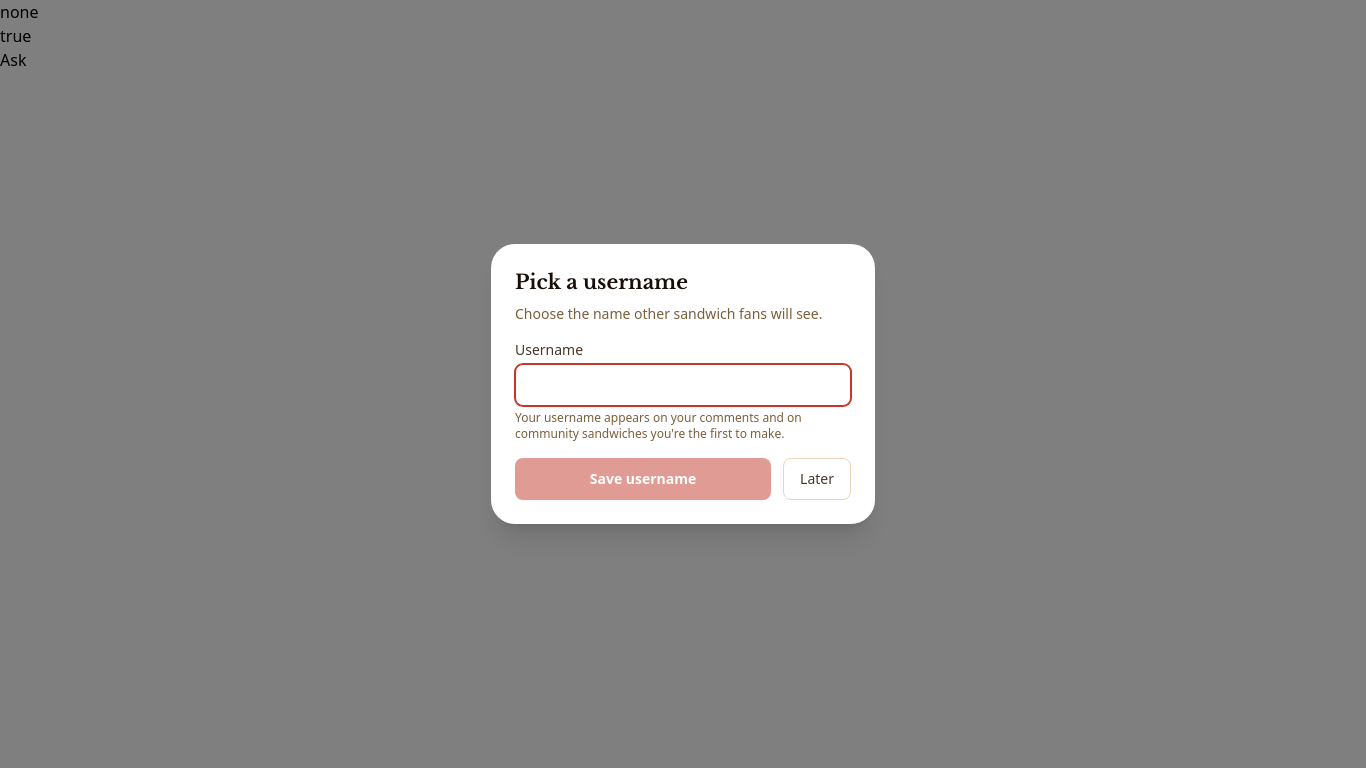
it: UsernameProvider for someone without a username › saves the chosen username and stops asking
Check: the dialog "Pick a username" is shown, box x1=491 y1=244 x2=875 y2=524
Type "sandwich_fan" into the field labelled "Username" at (683, 385), box x1=515 y1=364 x2=851 y2=406
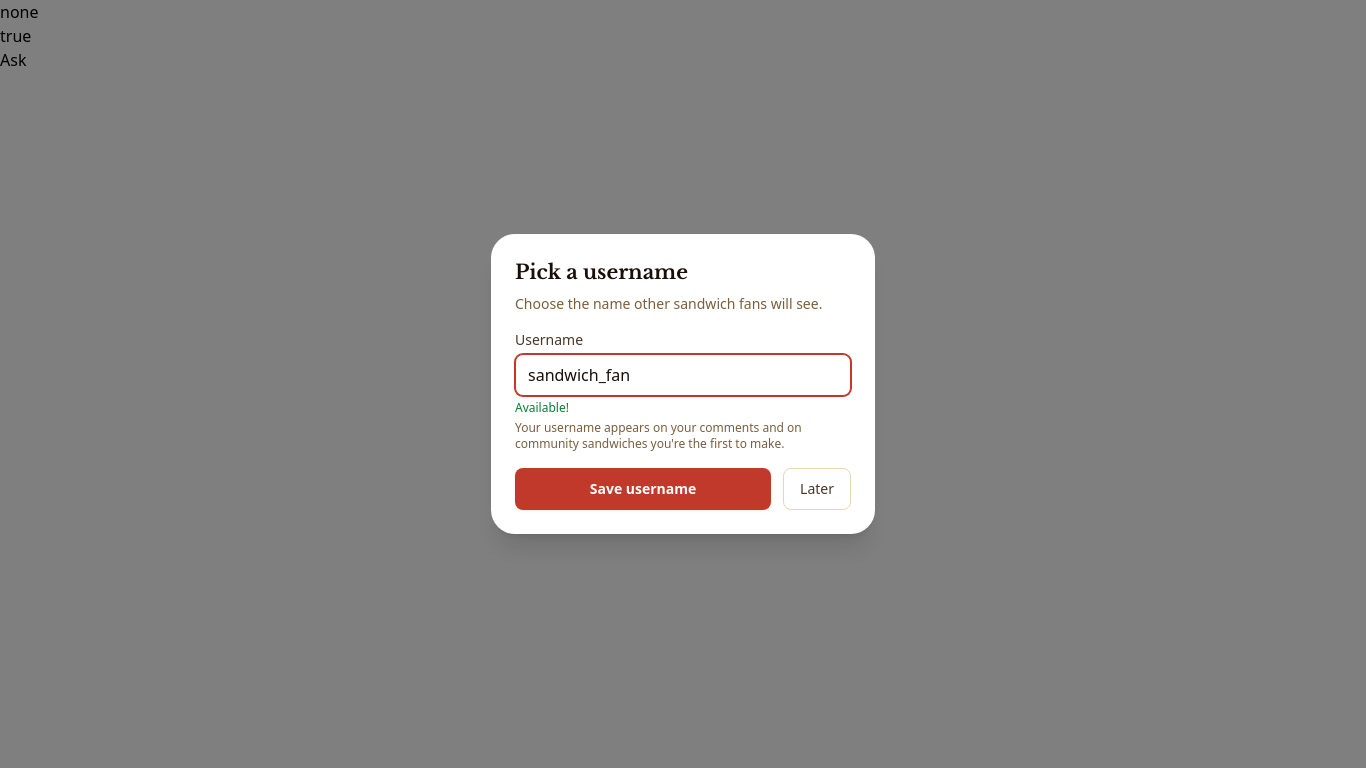
Check: the text "Available!" is shown, box x1=515 y1=399 x2=569 y2=416
Click the button "Save username" at (643, 489), box x1=515 y1=468 x2=771 y2=510
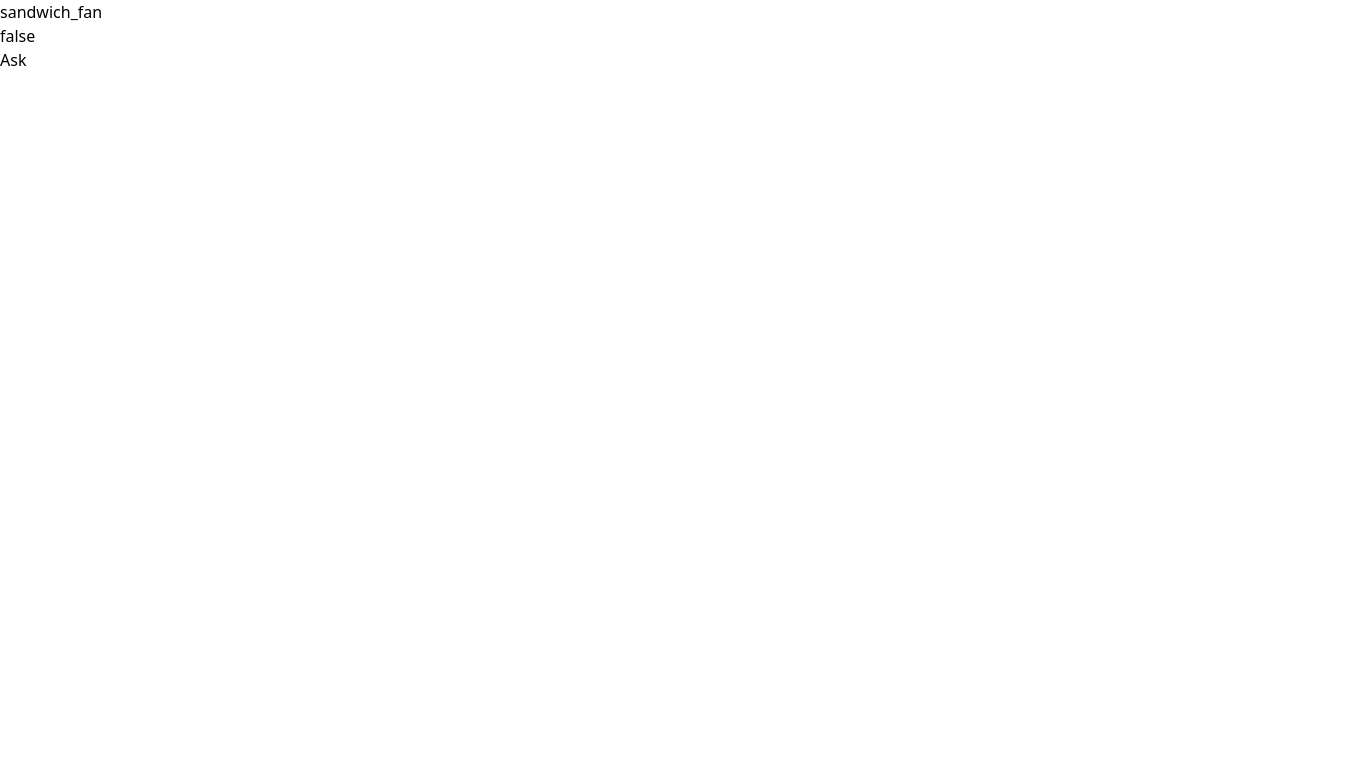
Check: the heading "Pick a username" is gone
Check: the text with test id "username" reads "sandwich_fan", box x1=0 y1=1 x2=102 y2=23
Check: the text with test id "needs" reads "false", box x1=0 y1=25 x2=35 y2=47
